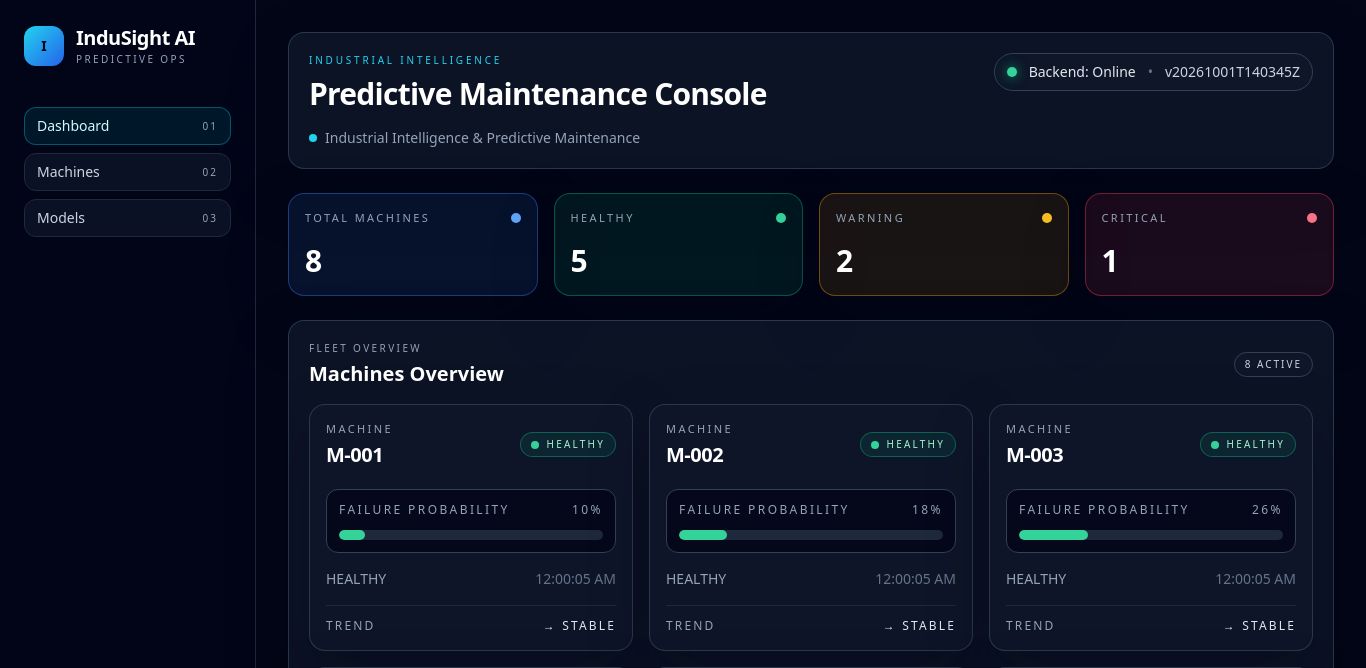
Scenario: sidebar navigation › clicking models shows real model metrics
The image size is (1366, 668).
Click the button "Models 03" at coordinates (128, 218), box 24,199 -> 231,237
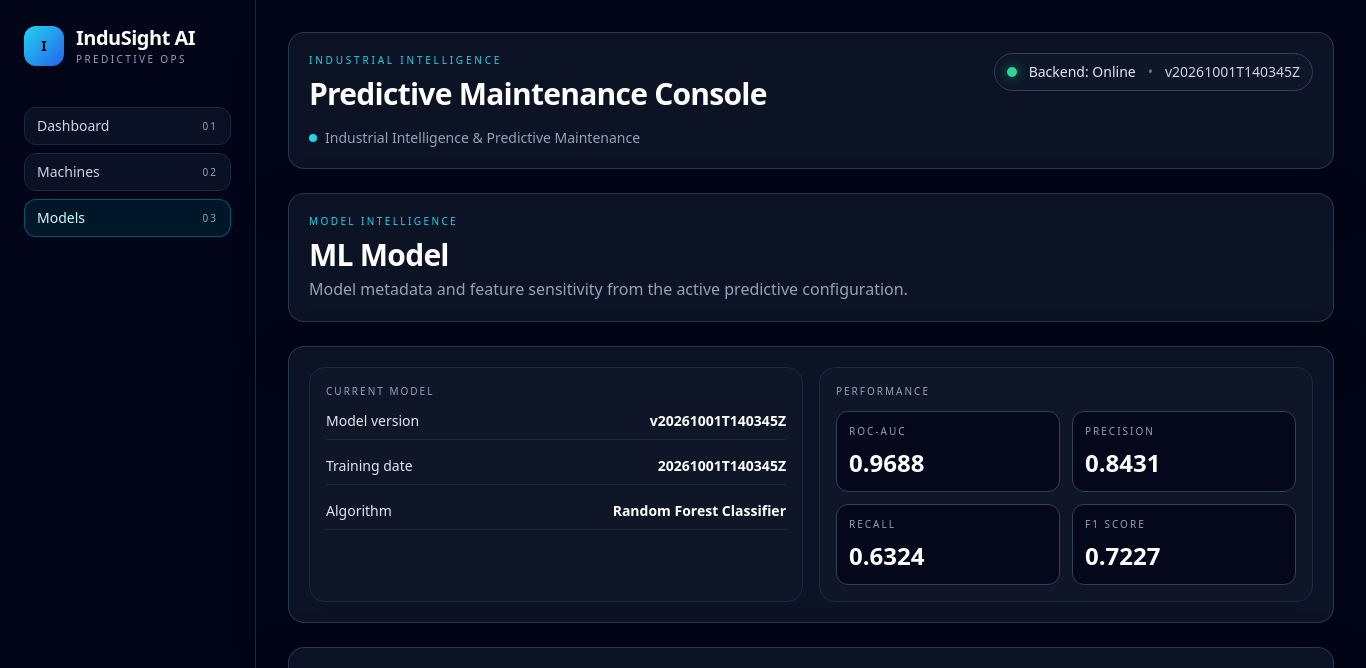
Now the heading "ML Model" is shown, box 309,234 -> 449,275
Now the text "Random Forest Classifier" is shown, box 613,501 -> 786,521
Now the text "ROC-AUC" is shown, box 849,424 -> 907,438
